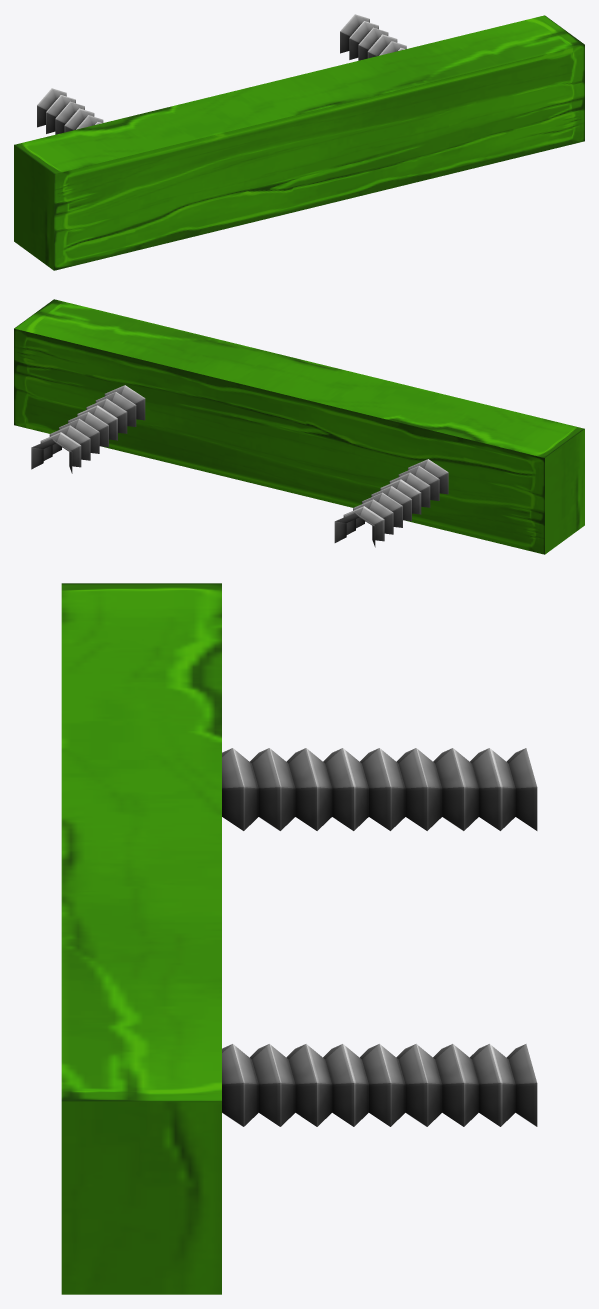
Rendered from wall_green_03.fbx.
3 views of the same model, one above another, from view 1: azimuth 30°, elevation 25°; view 2: azimuth 150°, elevation 25°; view 3: azimuth 270°, elevation 25° (orthographic). The views are drawn at different scales.
Parts seen in each view (by area): view 1: wall_3, spring_10, spring_12; view 2: wall_3, spring_12, spring_10; view 3: wall_3, spring_10, spring_12.
Part boxes in pixels (left/top/right/bottom): wall_3: left=14, top=15, right=584, bottom=270; spring_10: left=340, top=14, right=406, bottom=60; spring_12: left=37, top=88, right=103, bottom=134; wall_3: left=14, top=299, right=584, bottom=554; spring_12: left=334, top=459, right=448, bottom=547; spring_10: left=31, top=385, right=145, bottom=473; wall_3: left=61, top=583, right=221, bottom=1294; spring_10: left=222, top=1044, right=537, bottom=1126; spring_12: left=222, top=748, right=537, bottom=830.
Bounding box in the file's own units: 230 × 40 × 89.2.
